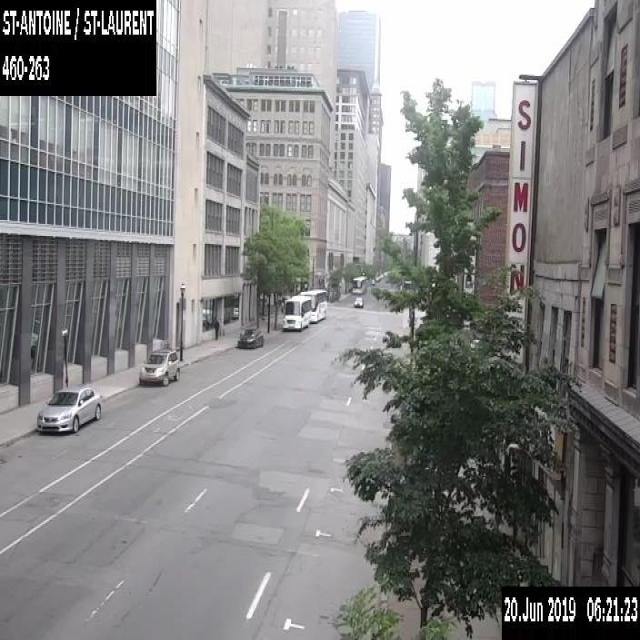bus: (282, 294, 311, 331), (298, 288, 326, 322), (352, 274, 366, 294)
pedestrian: (213, 316, 219, 340)
vehicle: (35, 384, 102, 435), (138, 348, 180, 386), (237, 327, 263, 348), (353, 295, 363, 307)
